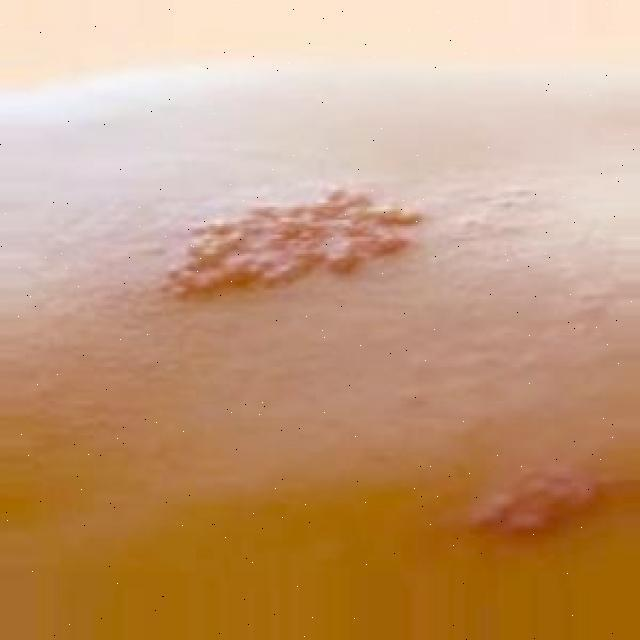Shingles: (165, 186, 418, 300), (459, 463, 626, 542)
